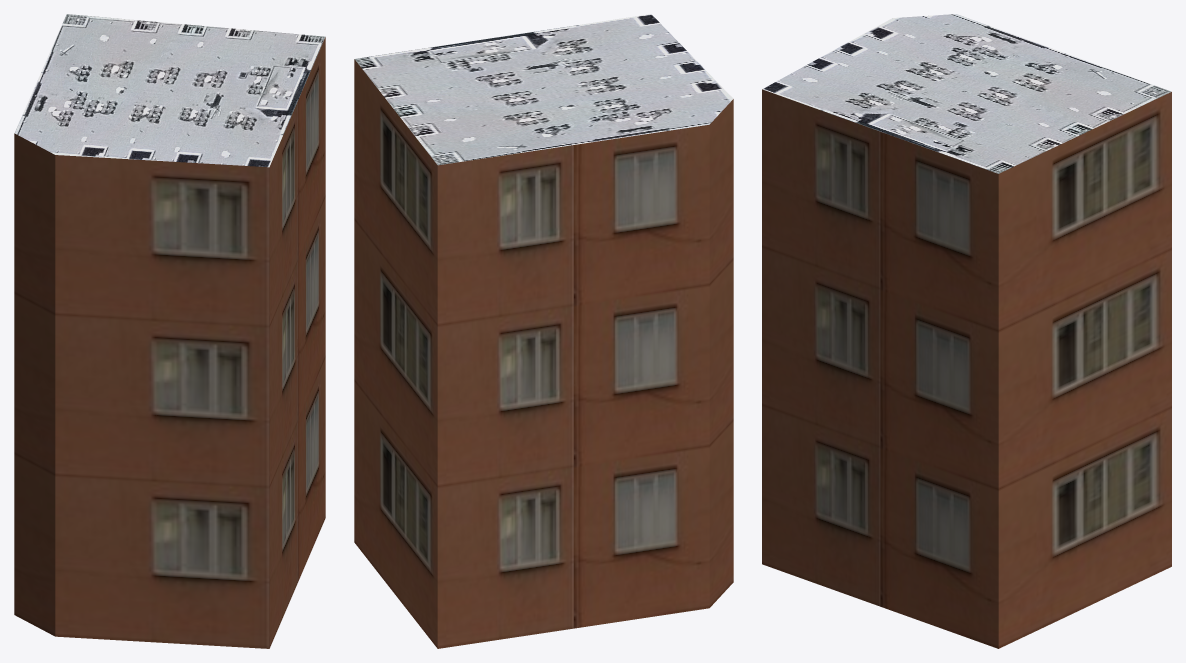
Rendered from ResTex__3738.fbx.
3 views of the same model, side by side, from view 1: azimuth 30°, elevation 25°; view 2: azimuth 150°, elevation 25°; view 3: azimuth 270°, elevation 25° (orthographic).
Parts seen in each view (by area): view 1: CityEngineMaterial_20_m, CityEngineMaterial_2_m; view 2: CityEngineMaterial_20_m, CityEngineMaterial_2_m; view 3: CityEngineMaterial_20_m, CityEngineMaterial_2_m.
Boxes of the visible parts, bbox=[...] form: CityEngineMaterial_20_m: bbox=[14, 37, 325, 648]; CityEngineMaterial_2_m: bbox=[14, 14, 325, 167]; CityEngineMaterial_20_m: bbox=[354, 59, 733, 648]; CityEngineMaterial_2_m: bbox=[354, 14, 733, 165]; CityEngineMaterial_20_m: bbox=[762, 89, 1171, 648]; CityEngineMaterial_2_m: bbox=[762, 14, 1171, 173].
Size of the model in its own units: 6.5 by 9 by 7.04.
2 materials, 2 textured.
